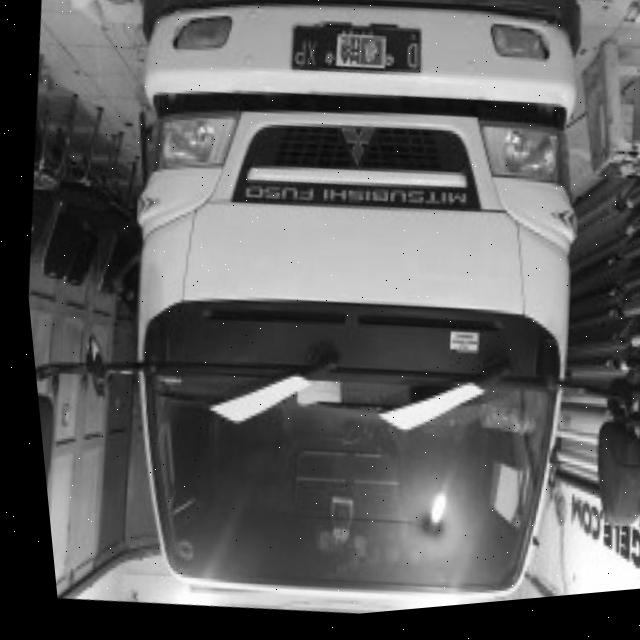truck: (1, 1, 640, 640)
